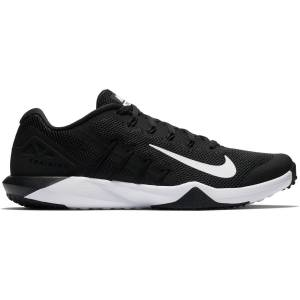nike: (147, 141, 237, 180)
